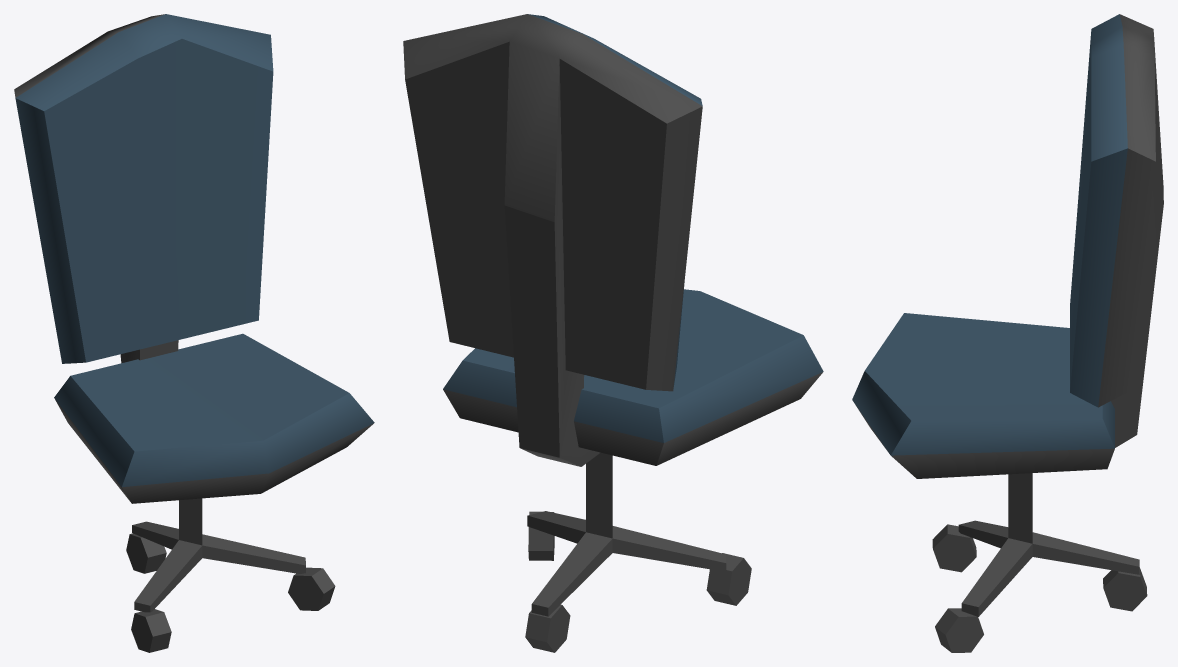
Rendered from Chair.fbx.
3 renders of one model, left to right at view 1: azimuth 30°, elevation 25°; view 2: azimuth 150°, elevation 25°; view 3: azimuth 270°, elevation 25°, orthographic. The views are drawn at different scales.
Parts seen in each view (by area): view 1: Chair_Back, Chair_Seat, Chair_Legs, Chair_Wheel_02, Chair_Wheel_01, Chair_Wheel_03; view 2: Chair_Back, Chair_Seat, Chair_Legs, Chair_Wheel_01, Chair_Wheel_03, Chair_Wheel_02; view 3: Chair_Seat, Chair_Back, Chair_Legs, Chair_Wheel_02, Chair_Wheel_01, Chair_Wheel_03.
Boxes of the visible parts, x1,y1,x2,y2 form: Chair_Back: (14, 14, 273, 363); Chair_Seat: (54, 333, 374, 503); Chair_Legs: (132, 498, 305, 612); Chair_Wheel_02: (288, 567, 335, 610); Chair_Wheel_01: (131, 609, 171, 652); Chair_Wheel_03: (126, 533, 166, 573); Chair_Back: (403, 14, 702, 466); Chair_Seat: (443, 289, 823, 465); Chair_Legs: (527, 452, 726, 616); Chair_Wheel_01: (706, 553, 751, 605); Chair_Wheel_03: (525, 604, 570, 652); Chair_Wheel_02: (528, 511, 554, 560); Chair_Seat: (852, 313, 1114, 478); Chair_Back: (1070, 14, 1163, 447); Chair_Legs: (958, 473, 1139, 616); Chair_Wheel_02: (935, 608, 983, 652); Chair_Wheel_01: (932, 524, 976, 572); Chair_Wheel_03: (1103, 567, 1147, 611).
Bounding box in the file's own units: 1.5 × 3.05 × 1.51.
